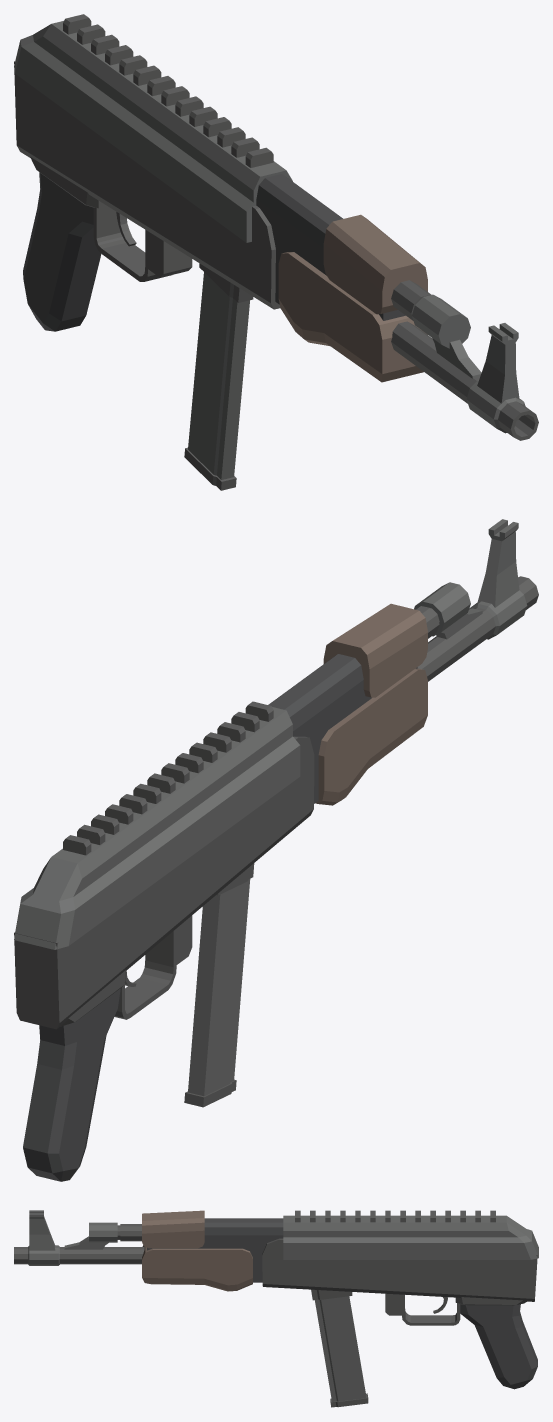
File: fusil-1.glb
The picture shows the model from 3 angles, top to bottom: view 1: azimuth 30°, elevation 25°; view 2: azimuth 150°, elevation 25°; view 3: azimuth 270°, elevation 25°; orthographic projection. The views are drawn at different scales.
Visible parts, largest first — view 1: AssaultRifle_1; view 2: AssaultRifle_1; view 3: AssaultRifle_1.
Part boxes in pixels (x1,y1,x2,y2): AssaultRifle_1: [14, 14, 538, 490]; AssaultRifle_1: [14, 519, 538, 1181]; AssaultRifle_1: [14, 1210, 538, 1407].
Bounding box in the file's own units: 0.0631 × 0.4058 × 1.
